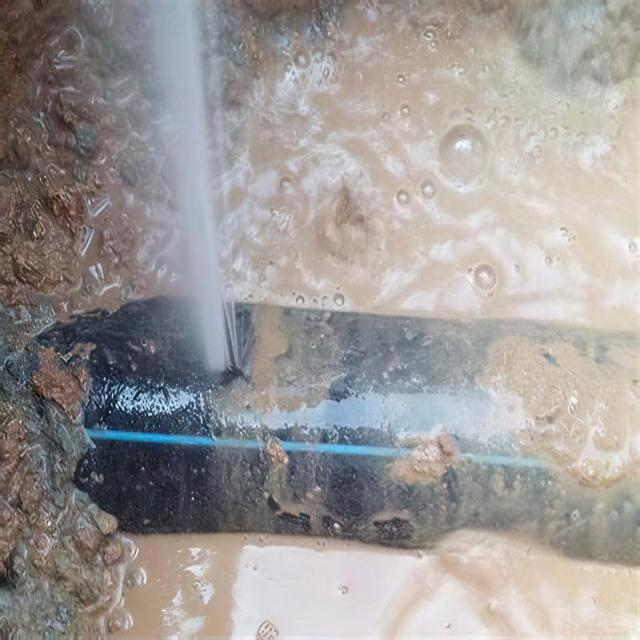leak: (132, 0, 242, 376)
